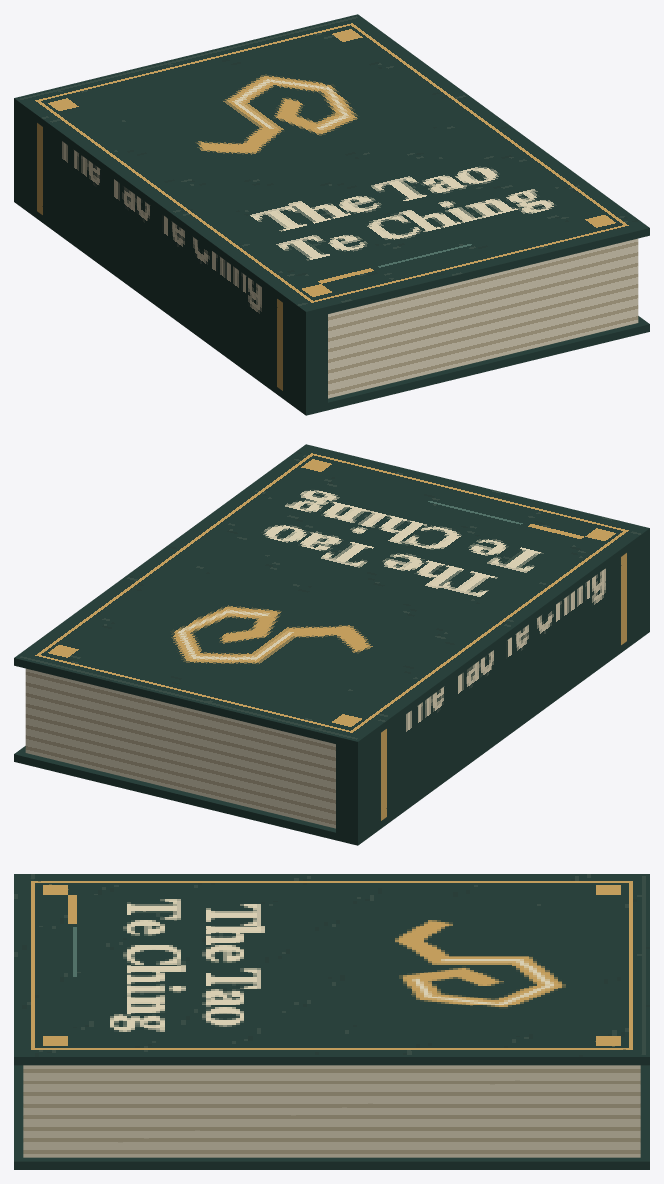
The model's file is holybook_taoism.glb.
3 views of the same model, one above another, from view 1: azimuth 30°, elevation 25°; view 2: azimuth 150°, elevation 25°; view 3: azimuth 270°, elevation 25° (orthographic). The views are drawn at different scales.
Parts seen in each view (by area): view 1: block_front cover, block_spine, block_page block, block_back cover; view 2: block_front cover, block_spine, block_page block, block_back cover; view 3: block_front cover, block_page block, block_back cover.
Boxes of the visible parts, x1,y1,x2,y2 form: block_front cover: (14,14,649,319); block_spine: (14,106,327,407); block_page block: (328,238,638,398); block_back cover: (14,194,649,415); block_front cover: (14,444,649,749); block_spine: (336,536,649,837); block_page block: (25,668,335,828); block_back cover: (14,624,649,845); block_front cover: (14,874,649,1065); block_page block: (23,1065,640,1157); block_back cover: (14,1065,649,1169).
Bounding box in the file's own units: 0.1414 × 0.0408 × 0.208.
Materials: 1 (1 with a texture image).
